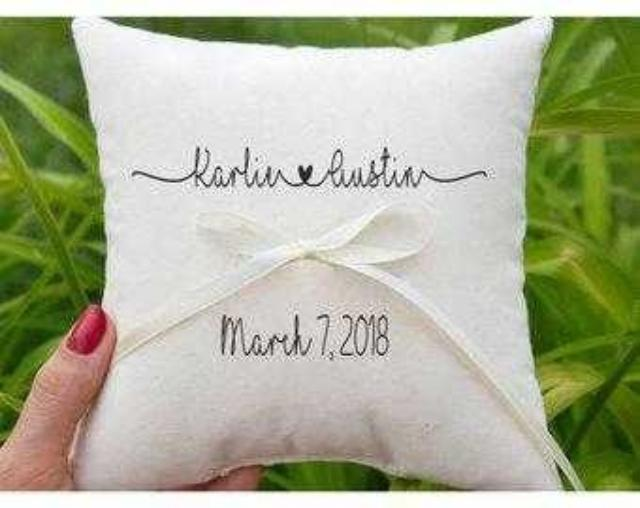pillow: (66, 13, 572, 491)
